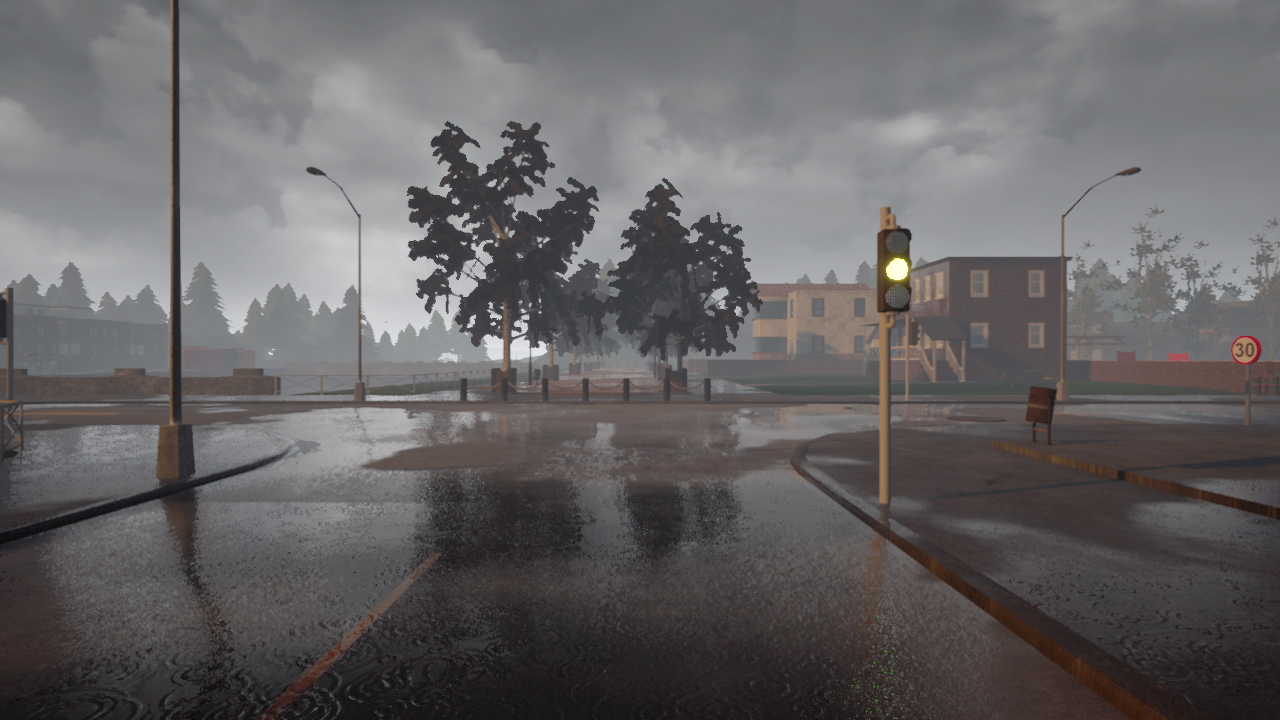yellow: (877, 227, 913, 318)
